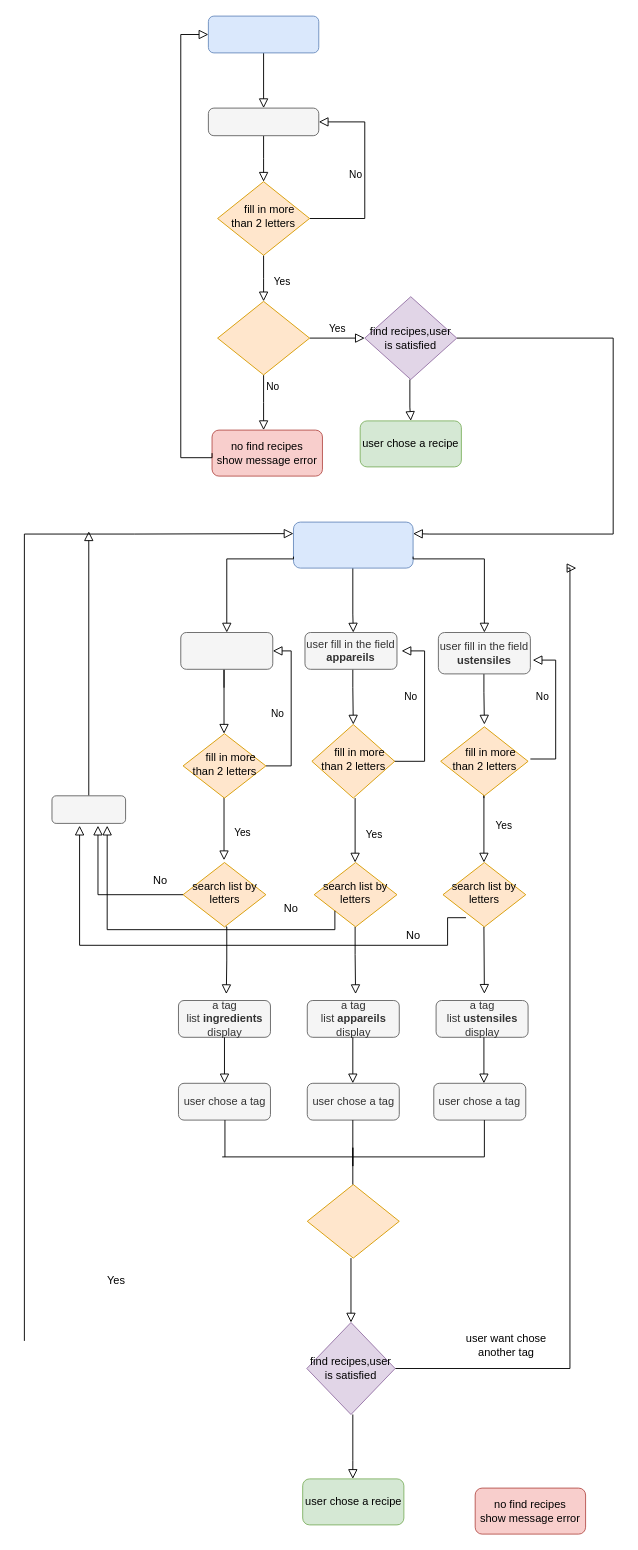
This 638x1550 diagram has some shape labels left out. The shapes that lost their labels are listed below. From the top down, each one's box as (x1, y1, x2, y2) in pixels, then its label:
(207, 15, 319, 53): user chose seach-bar
(207, 107, 319, 136): user fill in search bar
(217, 300, 310, 375): search recipes by letters
(293, 521, 413, 568): user chose to seach by Tag
(180, 632, 273, 669): user fill in the field ingredients
(51, 795, 126, 823): no list find
(306, 1184, 399, 1258): search recipes by tag
